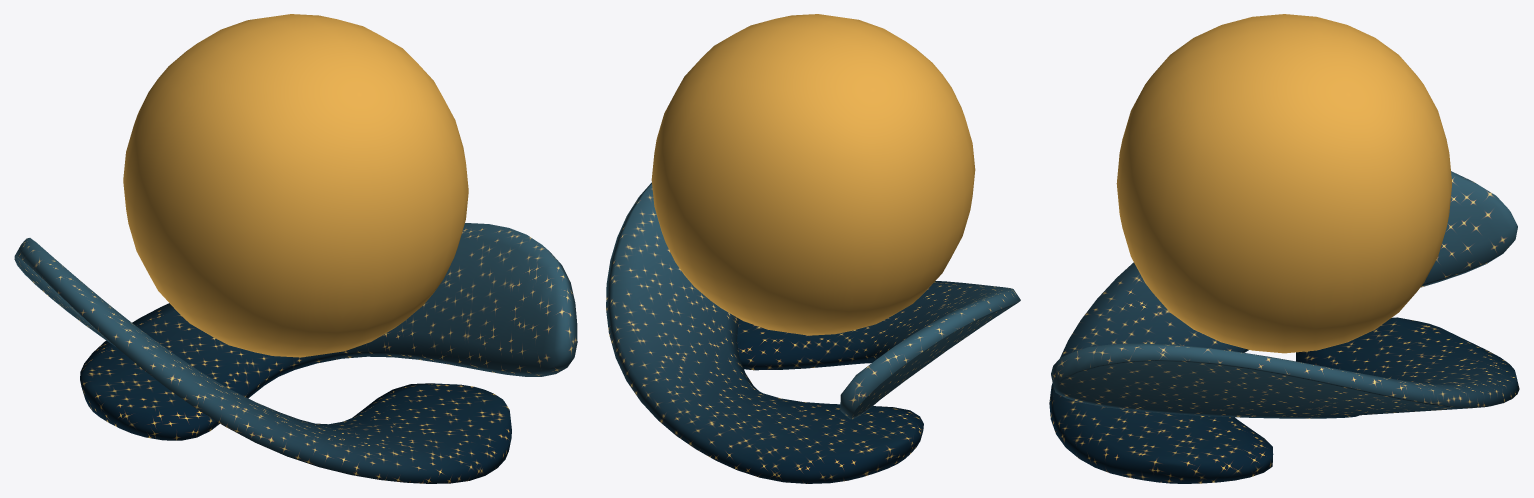
Rendered from Sol.fbx.
3 renders of one model, left to right at view 1: azimuth 30°, elevation 25°; view 2: azimuth 150°, elevation 25°; view 3: azimuth 270°, elevation 25°, orthographic. The views are drawn at different scales.
Parts seen in each view (by area): view 1: Sol, Sol_base; view 2: Sol, Sol_base; view 3: Sol, Sol_base.
Boxes of the visible parts, bbox=[...] form: Sol: bbox=[123, 14, 468, 357]; Sol_base: bbox=[14, 223, 577, 483]; Sol: bbox=[651, 14, 975, 335]; Sol_base: bbox=[606, 182, 1020, 483]; Sol: bbox=[1116, 14, 1452, 353]; Sol_base: bbox=[1049, 171, 1519, 483].
Size of the model in its own units: 2.82 by 2.55 by 2.82.
